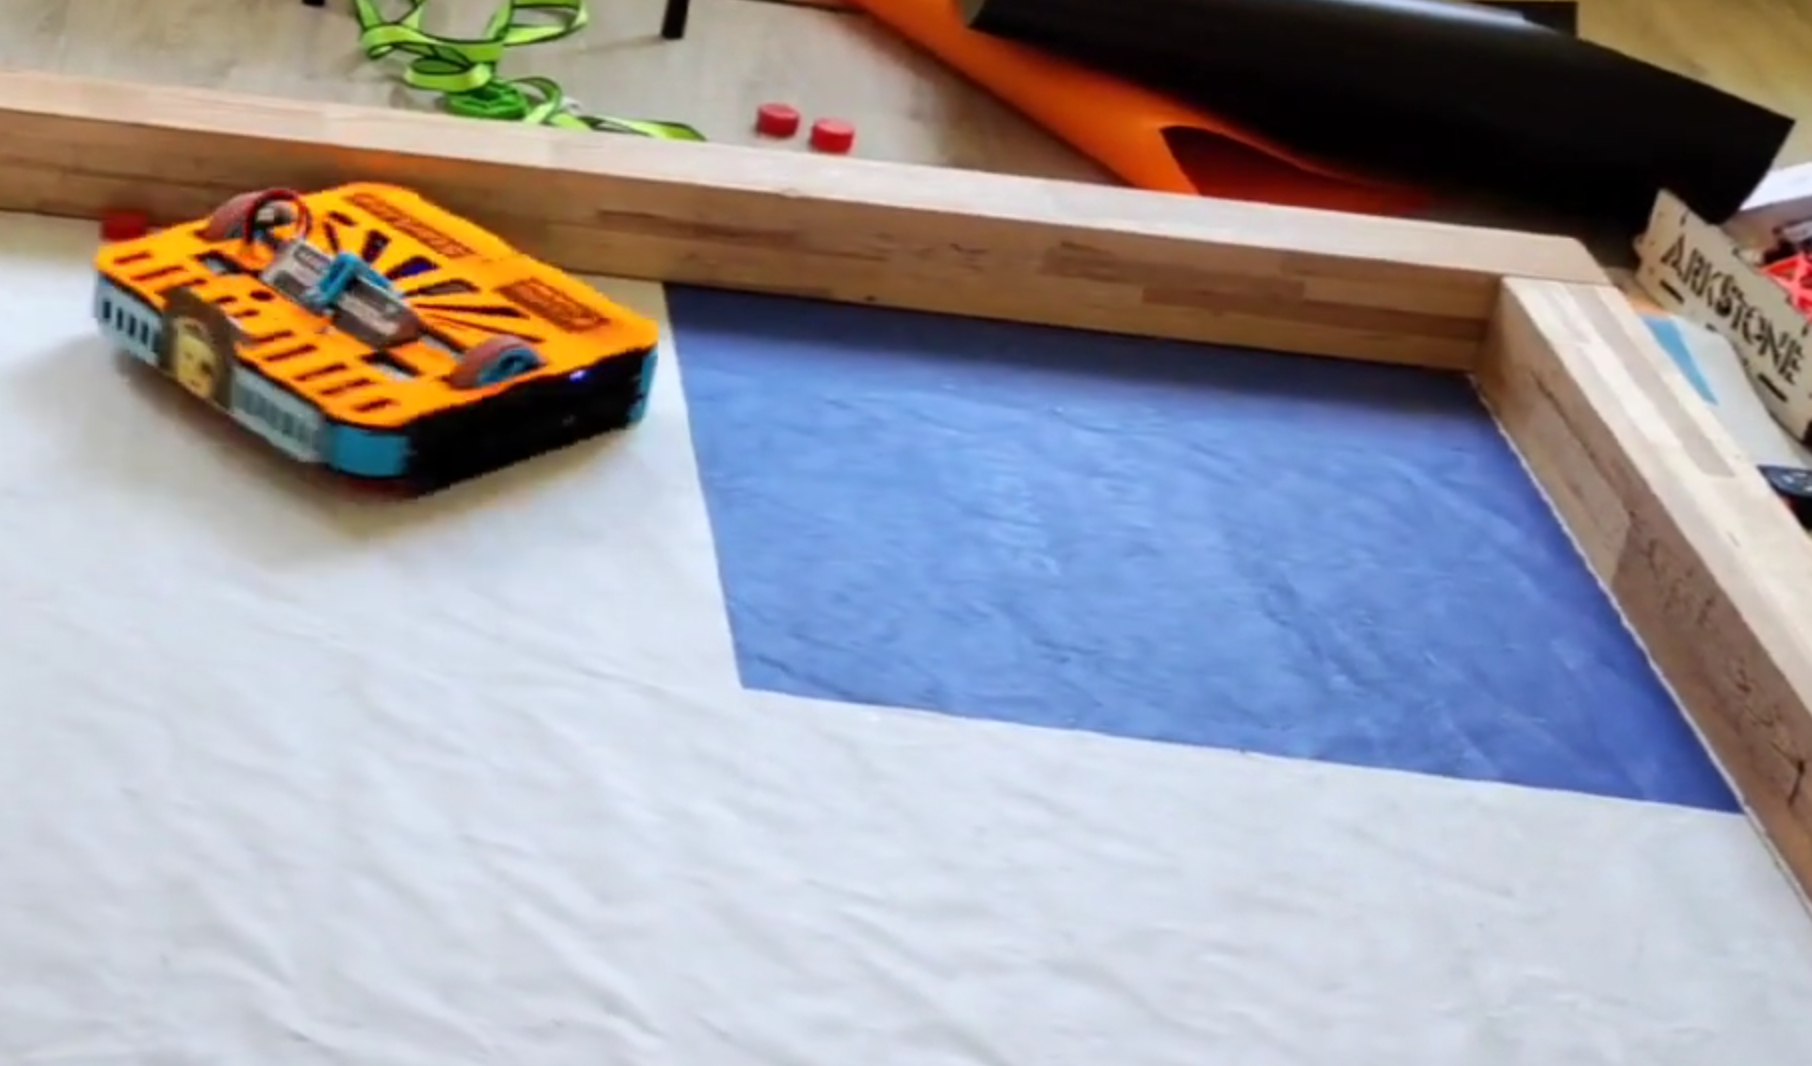blue_base: (660, 279, 1742, 813)
red_puck: (98, 209, 147, 240)
